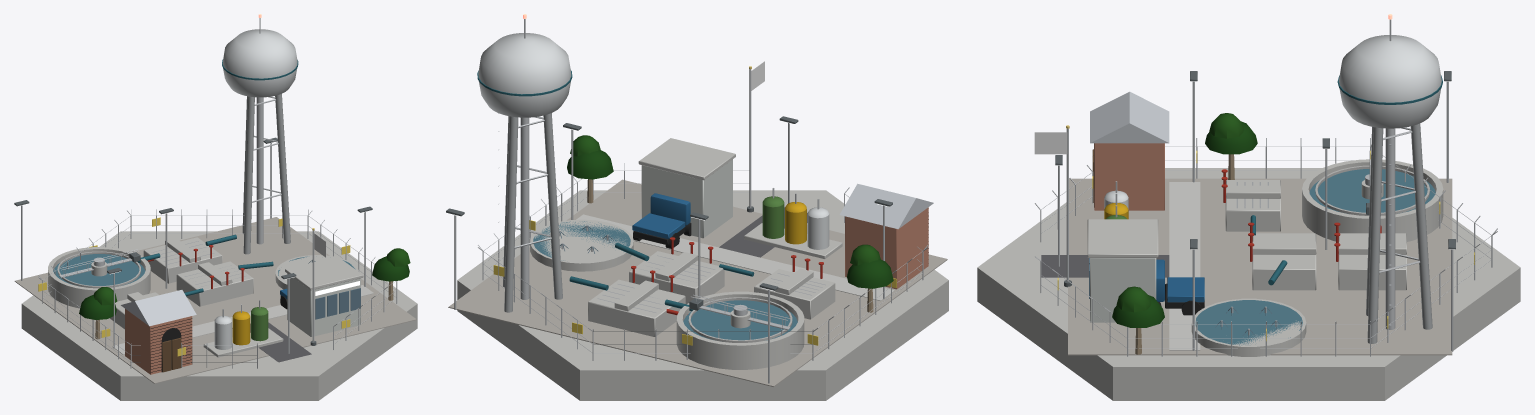
Rendered from waterTreatment.glb.
The picture shows the model from 3 angles, left to right: view 1: azimuth 30°, elevation 25°; view 2: azimuth 150°, elevation 25°; view 3: azimuth 270°, elevation 25°; orthographic projection. The views are drawn at different scales.
Visible parts, largest first — view 1: wall_concrete, gravel, paint, metal, cladding, glass, brick, leaf, asphalt, wood, dark, pavers (+2 smaller); view 2: wall_concrete, gravel, paint, metal, cladding, glass, brick, leaf, pavers, asphalt, steel_dark, hazard (+1 smaller); view 3: wall_concrete, gravel, paint, metal, cladding, glass, brick, pavers, leaf, asphalt, banner, steel_dark (+1 smaller).
Boxes of the visible parts, x1,y1,x2,y2 form: wall_concrete: (21,231,417,400); gravel: (14,217,416,383); paint: (137,29,298,349); metal: (21,18,397,368); cladding: (121,273,360,336); glass: (53,254,360,319); brick: (125,309,192,374); leaf: (79,248,410,319); asphalt: (232,322,311,362); wood: (95,281,393,372); dark: (150,295,287,372); pavers: (112,285,373,354); wall_concrete: (457,138,948,400); gravel: (448,179,947,386); paint: (477,33,829,315); metal: (454,19,928,383); cladding: (641,159,933,238); glass: (533,221,797,340); brick: (845,207,928,289); leaf: (567,135,893,288); pavers: (576,214,894,300); asphalt: (719,207,807,257); steel_dark: (446,116,892,310); hazard: (493,220,896,345); wall_concrete: (977,159,1520,400); gravel: (1068,178,1452,355); paint: (1104,35,1442,343); metal: (1035,19,1497,356); cladding: (1090,91,1169,322); glass: (1089,169,1435,345); brick: (1094,143,1164,210); pavers: (1169,182,1200,350); leaf: (1112,113,1257,327); asphalt: (1041,255,1169,277); banner: (1034,132,1067,154); steel_dark: (1055,71,1455,287).
Size of the model in its own units: 21.3 by 17.4 by 24.6.
